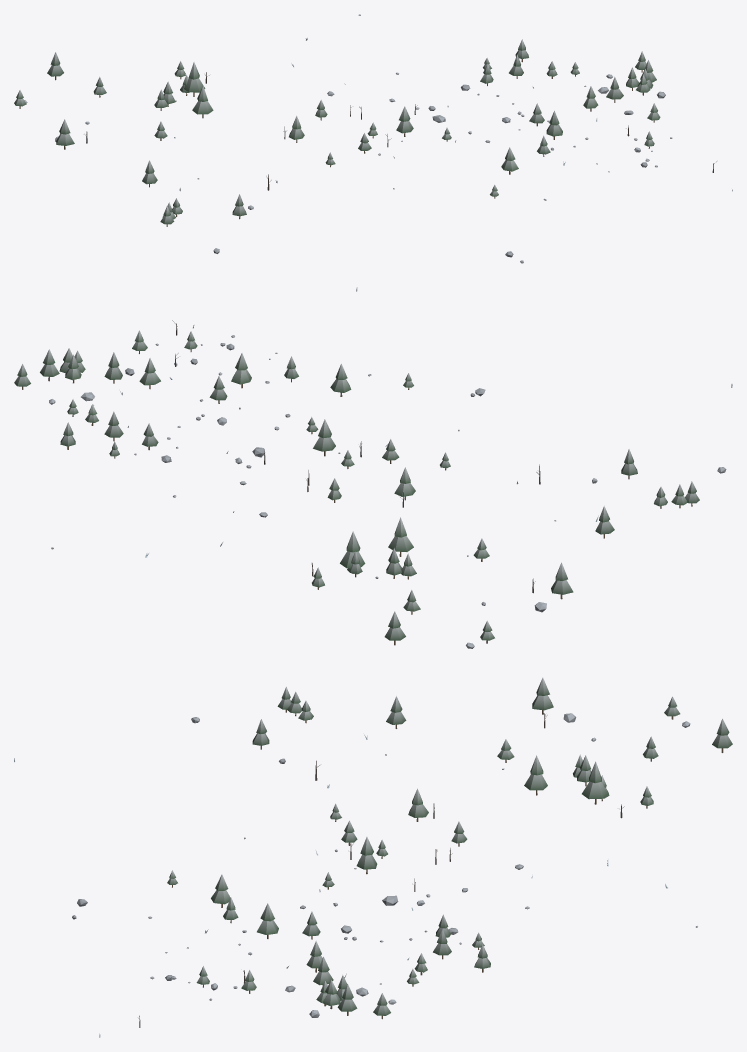
Rendered from frost_land_scatter_c13_11_lod1.glb.
3 views of the same model, one above another, from view 1: azimuth 30°, elevation 25°; view 2: azimuth 150°, elevation 25°; view 3: azimuth 270°, elevation 25° (orthographic). The views are drawn at different scales.
Parts seen in each view (by area): view 1: frost_land_scatter_c13_11_lod1; view 2: frost_land_scatter_c13_11_lod1; view 3: frost_land_scatter_c13_11_lod1.
Part boxes in pixels (bbox=[...]): frost_land_scatter_c13_11_lod1: bbox=[14, 14, 732, 291]; frost_land_scatter_c13_11_lod1: bbox=[14, 320, 732, 648]; frost_land_scatter_c13_11_lod1: bbox=[14, 677, 732, 1037].
Size of the model in its own units: 257 by 34.27 by 249.
